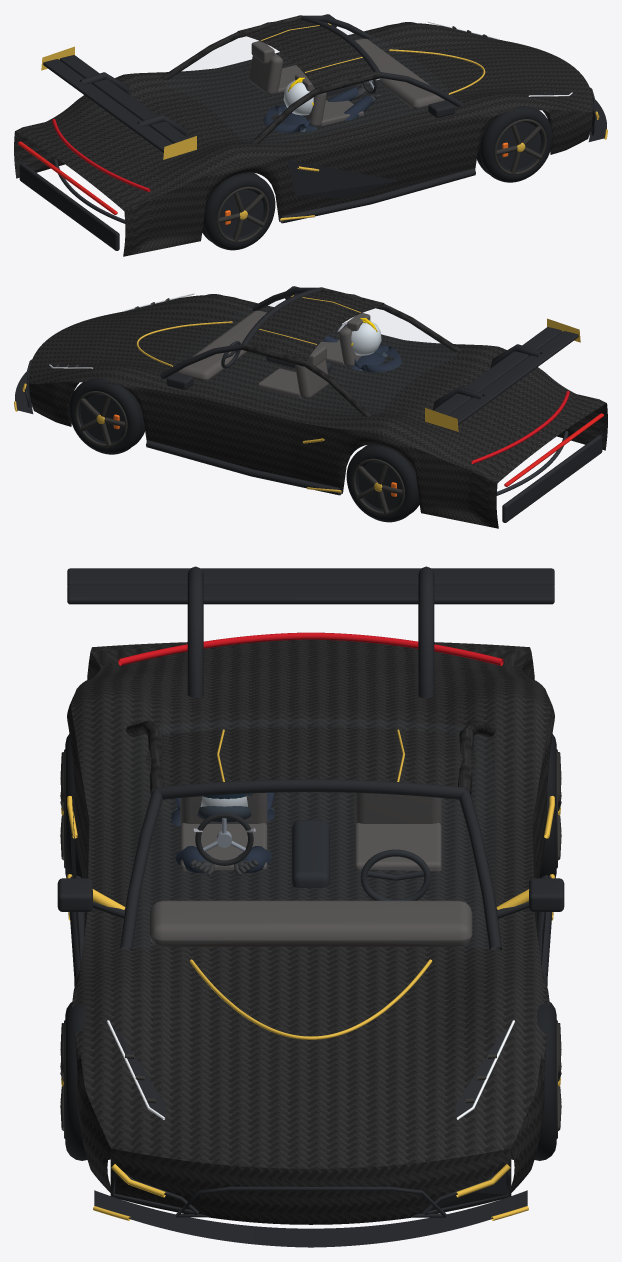
File: koenigsegg-jesko-odin.glb
The picture shows the model from 3 angles, top to bottom: view 1: azimuth 30°, elevation 25°; view 2: azimuth 150°, elevation 25°; view 3: azimuth 270°, elevation 25°; orthographic projection. The views are drawn at different scales.
Parts seen in each view (by area): view 1: Sculpted bonnet and wheel shoulders, Wheel arch and door skin.001, Crowned roof, Sculpted side intake.001, Pneu.007, Pneu.005, Diffuseur, Carbon wing element.001, Dashboard, Carbon wing element, Carbon sill.001, Disque.002 (+26 smaller); view 2: Sculpted bonnet and wheel shoulders, Wheel arch and door skin, Crowned roof, Pneu.002, Pneu, Diffuseur, Carbon wing element.001, Dashboard, Carbon wing element, Carbon sill, Disque, Disque.001 (+23 smaller); view 3: Sculpted bonnet and wheel shoulders, Bumper skin, Crowned roof, Dashboard, Carbon wing element, Carbon wing element.001, Projecting curved carbon splitter, Wheel arch and door skin, Wheel arch and door skin.001, Windshield header, Assise, V12_sculpted_curved_rear_taillight (+19 smaller).
Boxes of the visible parts, x1,y1,x2,y2 form: Sculpted bonnet and wheel shoulders: (15,23,593,211); Wheel arch and door skin.001: (123,109,592,256); Crowned roof: (239,19,373,90); Sculpted side intake.001: (287,160,399,198); Pneu.007: (203,173,275,250); Pneu.005: (480,106,552,182); Diffuseur: (19,163,119,250); Carbon wing element.001: (43,59,173,152); Dashboard: (354,38,444,109); Carbon wing element: (59,55,188,143); Carbon sill.001: (279,168,475,223); Disque.002: (497,122,541,169); Sculpted bonnet and wheel shoulders: (28,295,606,483); Wheel arch and door skin: (29,381,498,528); Crowned roof: (248,291,382,362); Pneu.002: (346,445,418,522); Pneu: (69,378,141,454); Diffuseur: (502,435,602,522); Carbon wing element.001: (448,331,578,424); Dashboard: (177,310,267,381); Carbon wing element: (433,327,562,415); Carbon sill: (146,440,342,495); Disque: (80,394,124,441); Disque.001: (358,462,402,509); Sculpted bonnet and wheel shoulders: (71,639,550,1168); Bumper skin: (110,1148,511,1224); Crowned roof: (145,727,476,788); Dashboard: (149,900,472,947); Carbon wing element: (67,584,554,604); Carbon wing element.001: (67,568,554,585); Projecting curved carbon splitter: (94,1190,527,1247); Wheel arch and door skin: (511,652,554,1192); Wheel arch and door skin.001: (67,652,110,1192); Windshield header: (156,779,465,799); Assise: (354,823,441,871); V12_sculpted_curved_rear_taillight: (118,632,503,665).
Bounding box in the file's own units: 5.12 × 1.23 × 2.15.
30 materials, 1 textured.
